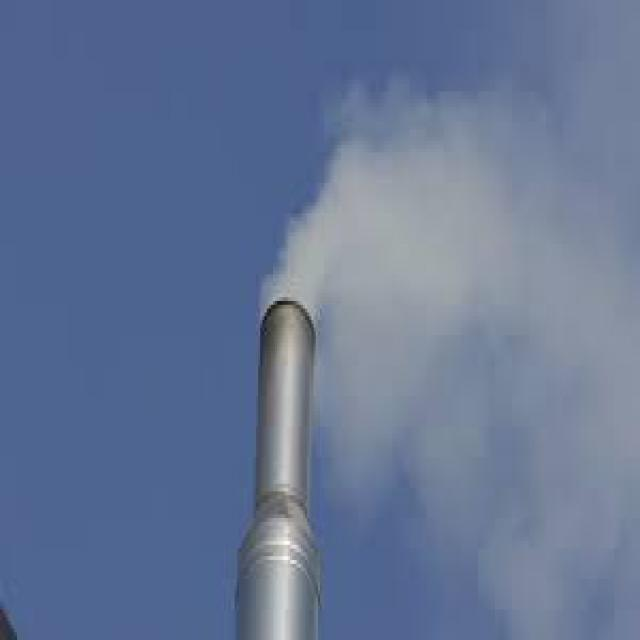Smoke: (253, 116, 640, 638)
